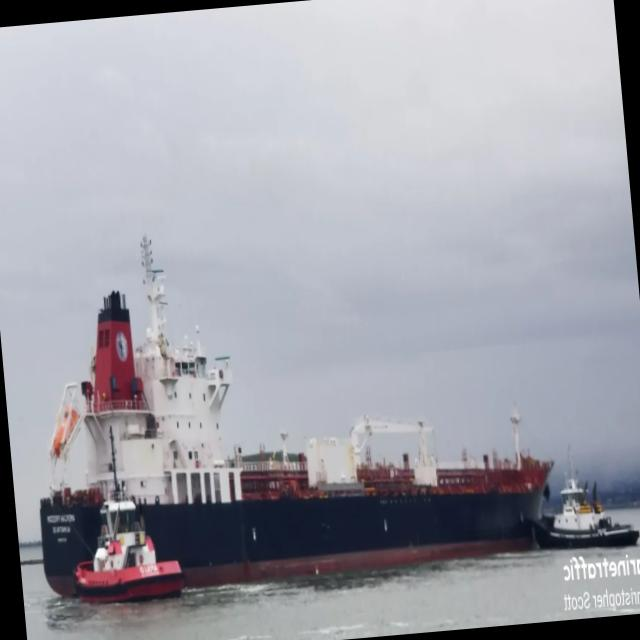Tanker: (41, 237, 553, 595)
Tug: (75, 427, 183, 601), (534, 449, 639, 547)
